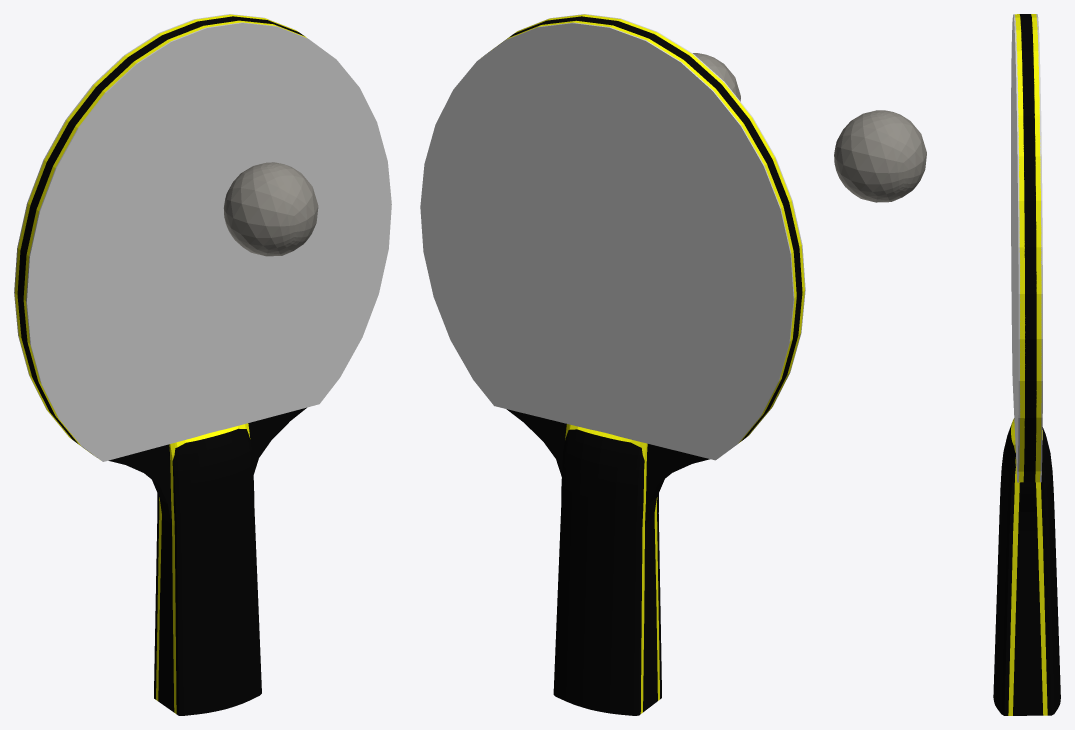
Rendered from PaddleAndBall.fbx.
3 renders of one model, left to right at view 1: azimuth 30°, elevation 25°; view 2: azimuth 150°, elevation 25°; view 3: azimuth 270°, elevation 25°, orthographic.
Parts seen in each view (by area): view 1: Cube, GD_mesh; view 2: Cube, GD_mesh; view 3: Cube, GD_mesh.
Part boxes in pixels (box(x1,y1,x2,y2)): Cube: box(14, 14, 391, 715); GD_mesh: box(223, 162, 318, 256); Cube: box(420, 14, 805, 715); GD_mesh: box(693, 53, 740, 101); Cube: box(993, 14, 1060, 715); GD_mesh: box(834, 110, 926, 202).
Bounding box in the file's own units: 118 × 205 × 63.64.
